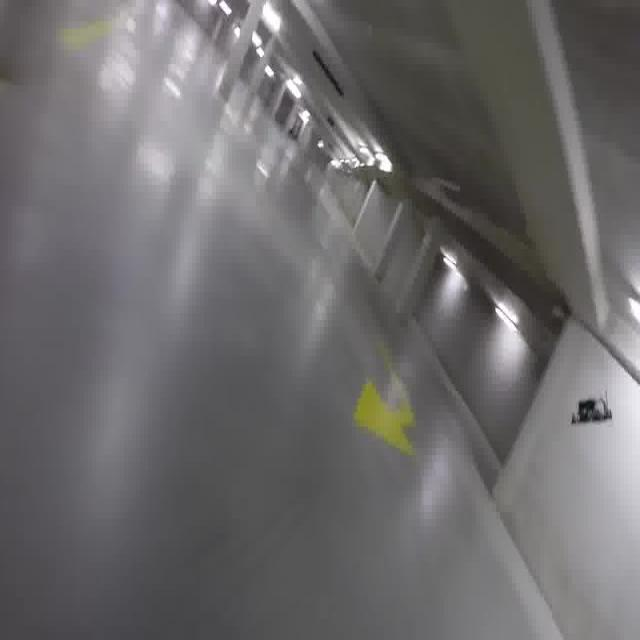drone: (567, 388, 612, 430)
